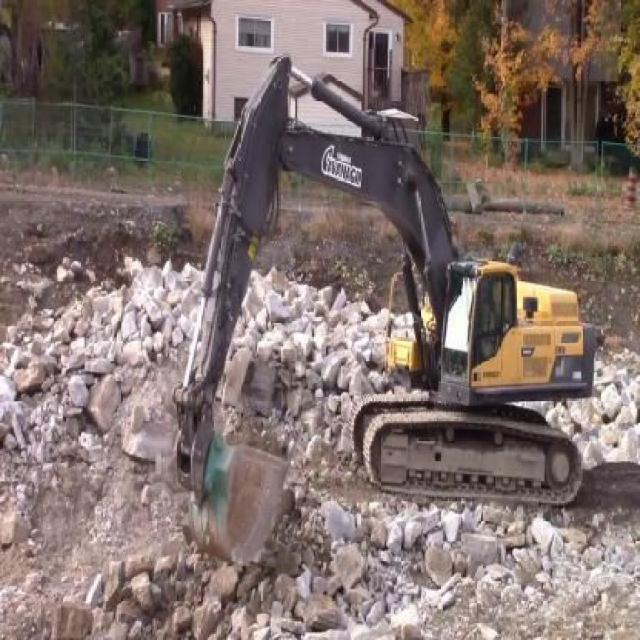Excavator: (173, 44, 599, 582)
